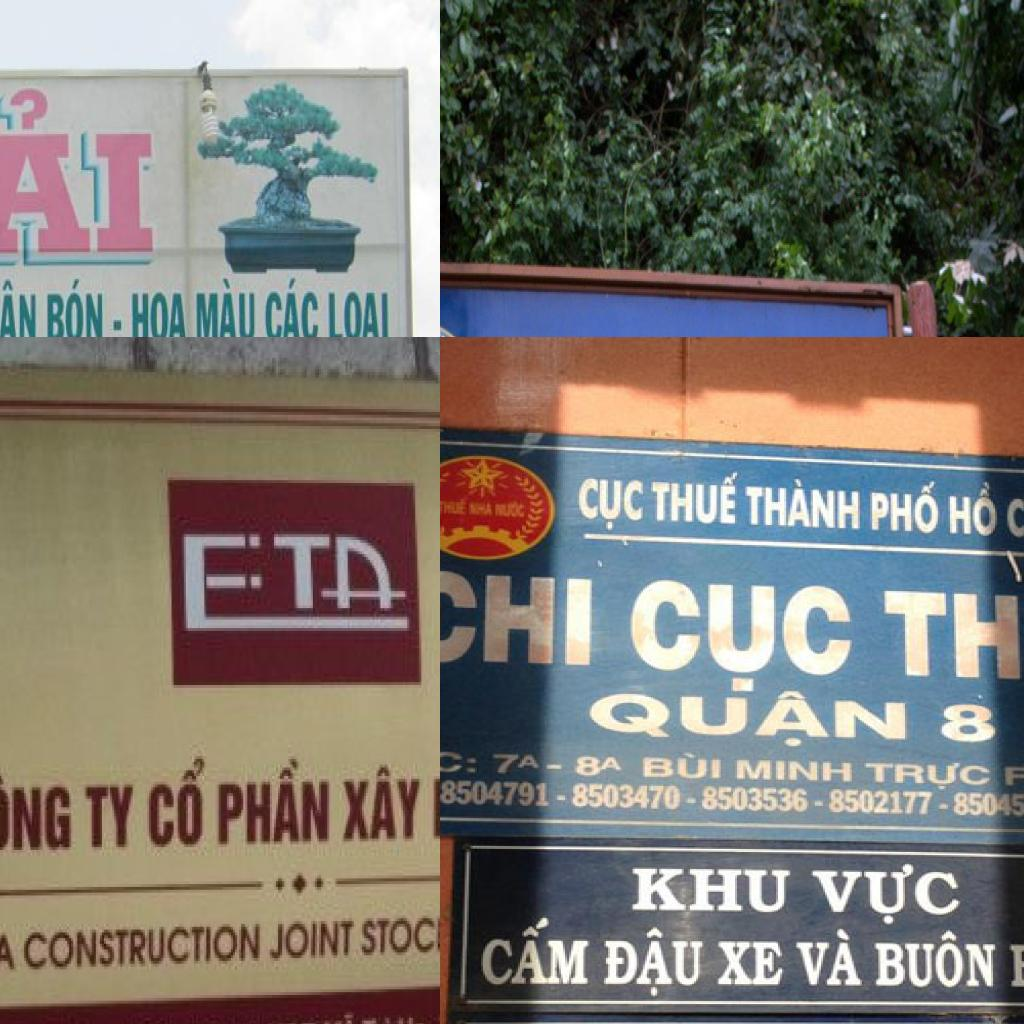text: (0, 76, 164, 270), (620, 569, 862, 694), (178, 528, 413, 640), (571, 684, 917, 748), (870, 566, 1024, 696), (440, 560, 603, 678), (22, 918, 264, 975), (217, 753, 333, 850), (808, 860, 972, 927), (467, 915, 600, 995), (620, 864, 796, 920), (866, 929, 1003, 996), (596, 923, 708, 1004), (741, 474, 866, 538), (340, 762, 426, 847), (0, 767, 77, 858), (147, 753, 210, 856), (647, 465, 741, 530), (792, 924, 868, 993), (866, 477, 950, 539), (706, 933, 788, 995), (862, 755, 995, 792), (573, 471, 647, 536), (268, 916, 358, 966), (81, 778, 137, 856), (924, 699, 1016, 746), (194, 275, 258, 337), (731, 754, 862, 784), (261, 274, 323, 337), (359, 912, 440, 960), (946, 476, 1003, 543), (42, 279, 106, 337), (571, 782, 682, 814), (440, 780, 550, 812), (327, 284, 393, 337), (827, 788, 936, 820), (700, 786, 813, 815), (128, 287, 190, 337), (643, 751, 727, 786), (0, 274, 39, 337), (954, 794, 1024, 823), (571, 751, 627, 783), (440, 744, 481, 781), (492, 746, 538, 778), (1005, 486, 1024, 543), (0, 929, 20, 975), (1001, 760, 1024, 794), (440, 495, 471, 517), (496, 500, 530, 520), (395, 1012, 436, 1024), (540, 758, 565, 777), (321, 1012, 360, 1024), (469, 499, 495, 517), (362, 1012, 395, 1024), (682, 795, 702, 806), (112, 318, 124, 334), (440, 321, 452, 337), (813, 798, 827, 811), (555, 792, 567, 803), (938, 801, 950, 812)
